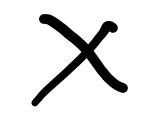mult: (32, 14, 128, 107)
